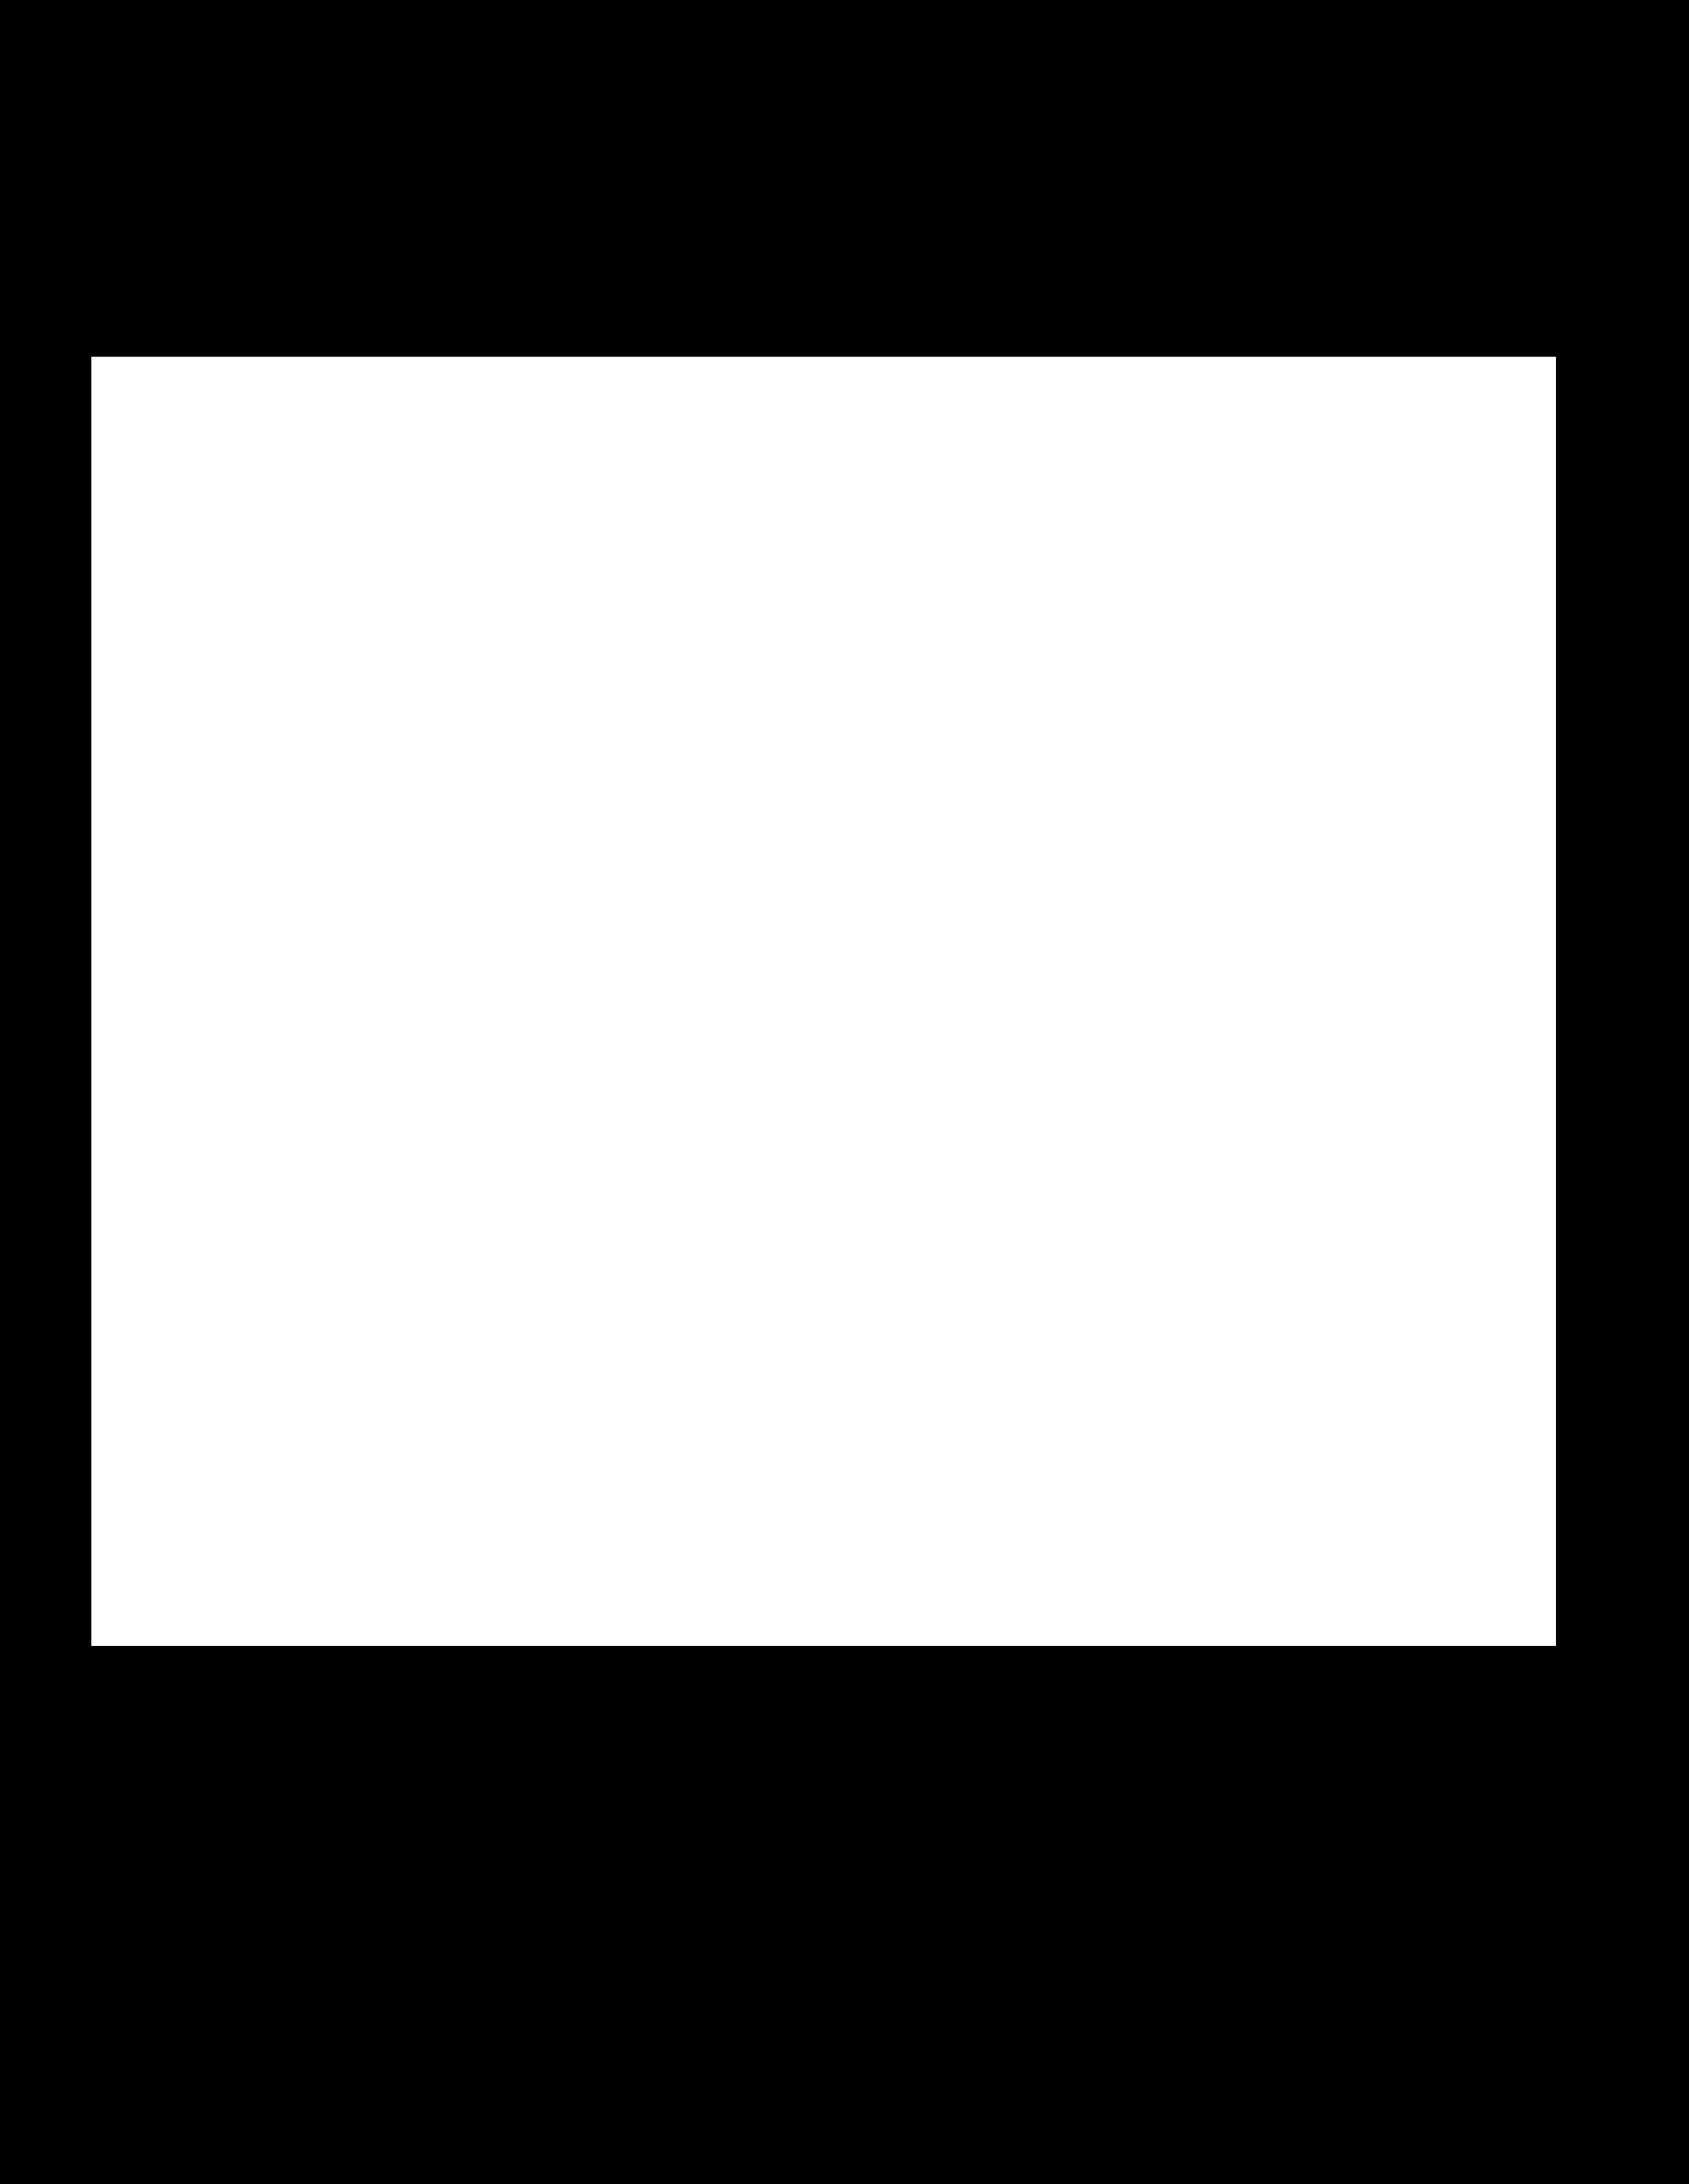table: (92, 356, 1556, 1645)
